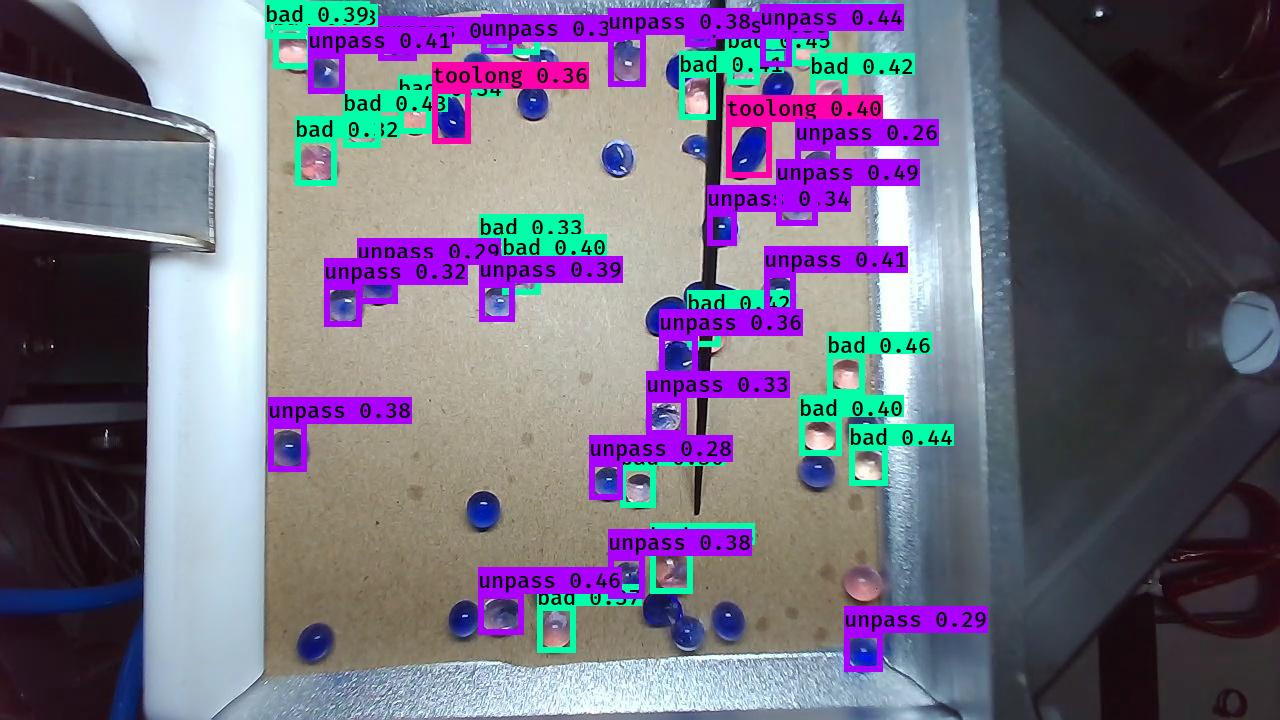bad: (649, 548, 694, 591), (678, 76, 719, 120), (841, 563, 885, 604), (275, 30, 318, 71), (298, 145, 340, 186), (689, 314, 730, 355), (535, 611, 576, 651), (849, 446, 889, 485), (789, 24, 822, 71), (472, 237, 515, 273), (723, 14, 758, 57), (509, 251, 540, 298), (504, 21, 541, 60), (830, 360, 869, 397), (397, 96, 432, 137), (798, 420, 837, 456), (813, 78, 850, 114), (731, 51, 765, 87), (267, 4, 304, 37), (625, 471, 658, 508), (344, 113, 380, 146)
defact: (678, 133, 719, 165)
pass: (642, 294, 688, 339), (296, 621, 336, 667), (358, 267, 401, 309), (529, 567, 570, 609), (663, 44, 699, 89), (703, 212, 743, 252), (643, 587, 683, 627), (796, 453, 836, 491), (847, 410, 883, 452), (464, 489, 499, 531), (712, 601, 747, 643), (382, 19, 417, 59), (528, 228, 561, 270), (765, 67, 800, 106), (516, 83, 549, 123), (449, 599, 480, 640), (463, 51, 495, 90)
toolong: (684, 280, 749, 327), (429, 88, 472, 147), (729, 123, 772, 181)
unpass: (606, 35, 647, 85), (658, 339, 703, 384), (478, 593, 523, 635), (267, 431, 311, 471), (845, 630, 884, 674), (326, 285, 366, 326), (759, 273, 797, 316), (798, 148, 837, 188), (308, 55, 346, 96), (645, 398, 681, 440), (781, 186, 819, 224), (610, 559, 648, 597), (477, 13, 511, 54), (600, 140, 636, 178), (481, 283, 516, 321), (685, 13, 720, 51), (588, 466, 625, 501), (669, 618, 708, 651), (757, 31, 788, 70), (527, 49, 560, 81)
